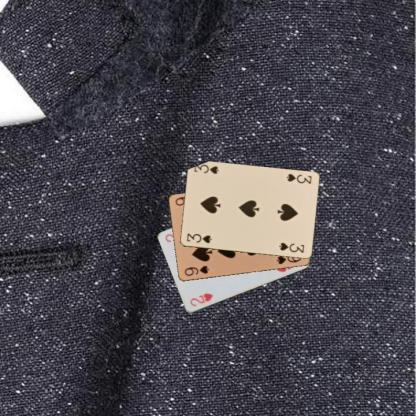2h: (187, 290, 214, 308)
3s: (184, 230, 213, 245), (284, 171, 312, 185)
9s: (182, 262, 210, 278)
